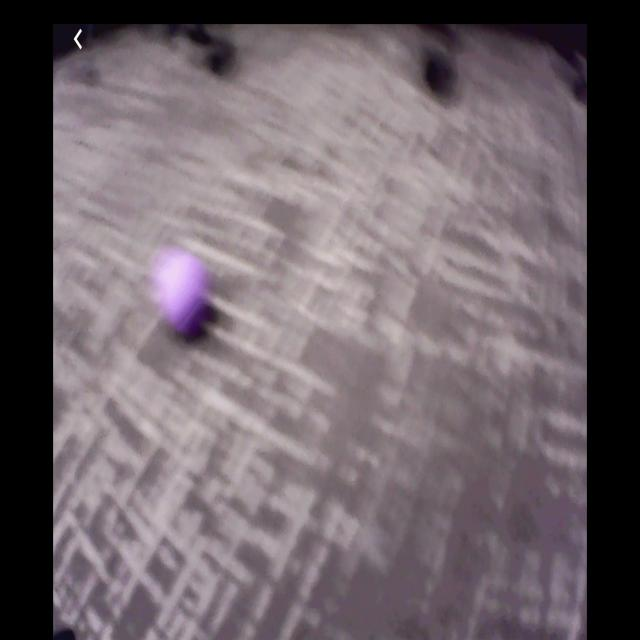ball: (160, 249, 210, 331)
